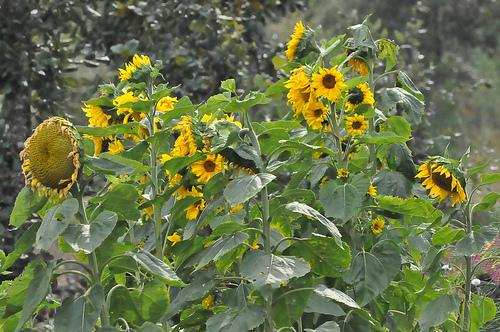sunflower: (21, 117, 78, 200), (417, 151, 469, 208), (310, 67, 344, 100), (285, 21, 313, 59), (117, 55, 157, 80), (89, 130, 124, 158), (192, 152, 224, 181), (301, 99, 329, 130), (345, 82, 373, 110), (347, 112, 367, 138)
